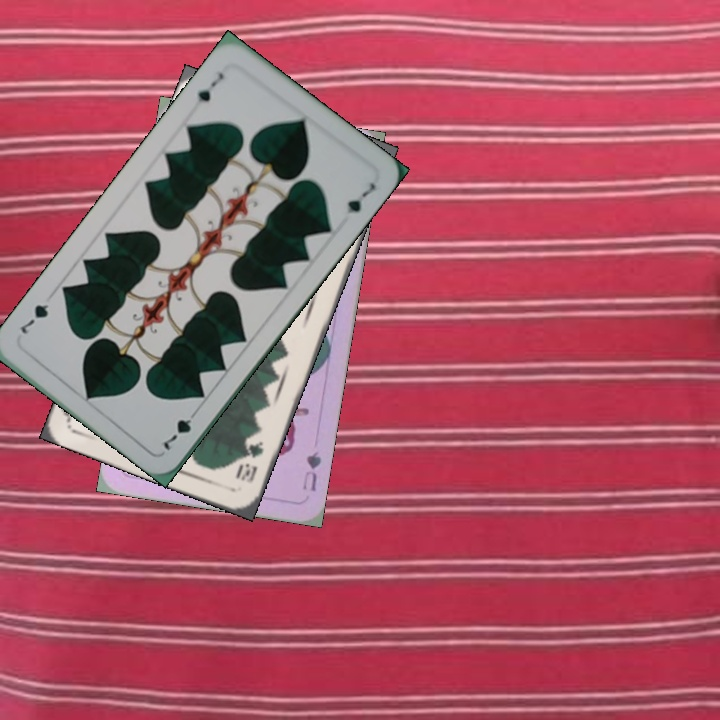G10: (231, 437, 267, 486)
G7: (159, 404, 202, 453), (189, 68, 227, 110)
GU: (298, 447, 324, 494)
